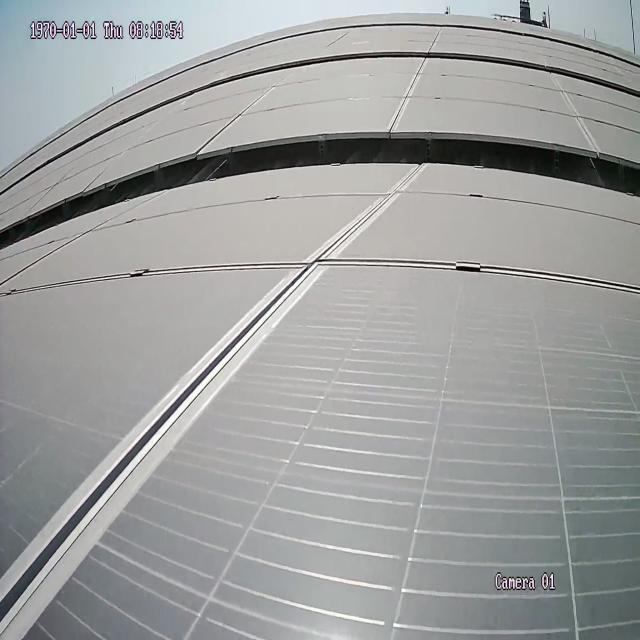interior panel: (3, 170, 635, 640), (203, 82, 279, 146), (387, 60, 429, 127), (557, 83, 600, 141)
outher panel: (0, 130, 637, 250)
